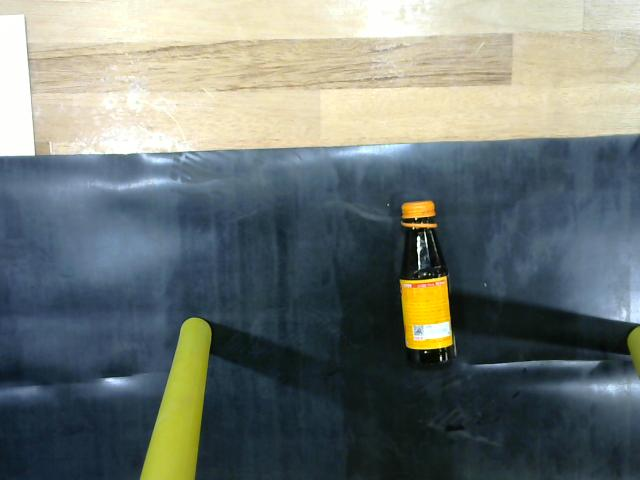glass: (393, 194, 474, 376)
